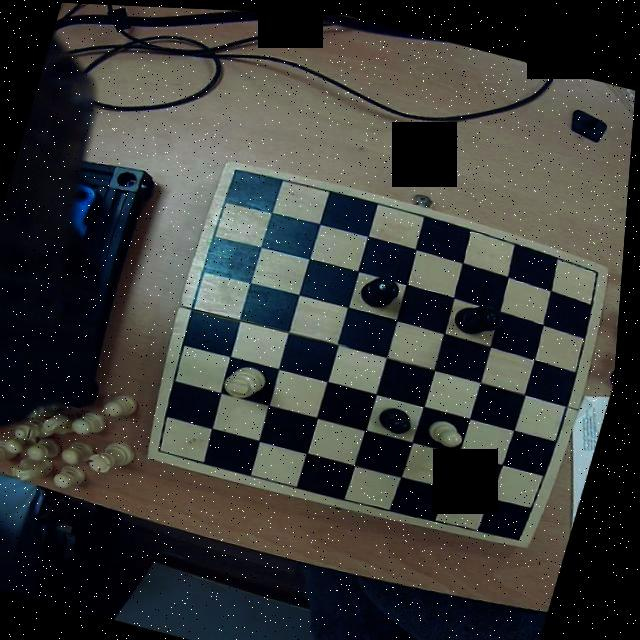chess-table-corners: (224, 158, 255, 185), (153, 432, 180, 458), (508, 522, 540, 542), (587, 258, 613, 281)
